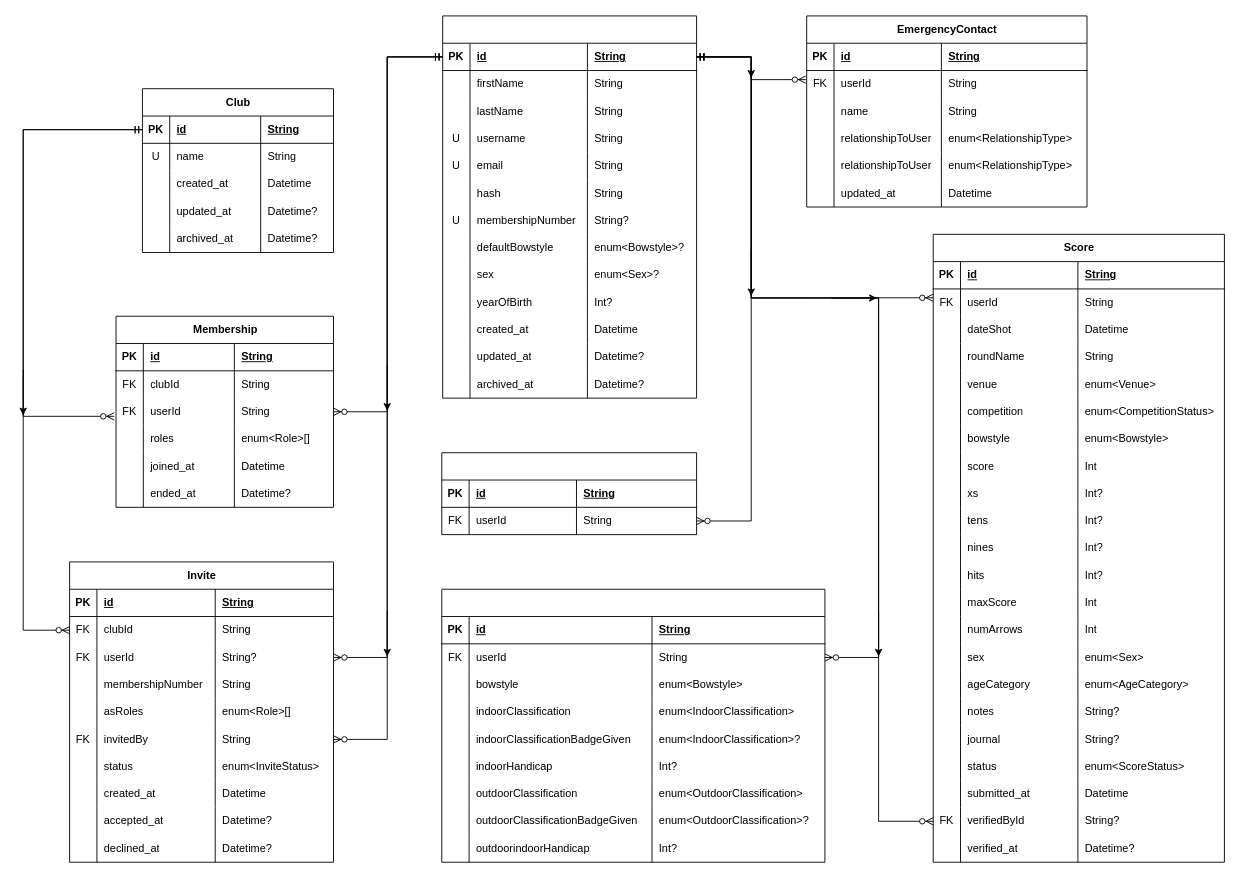
Image size: 1240x878. Some labels were removed from this diagram. Each missing label, with the box of its shape:
BowstyleSummary: (441, 588, 825, 862)
Profile: (442, 15, 697, 398)
RecordsSummary: (441, 452, 697, 535)
